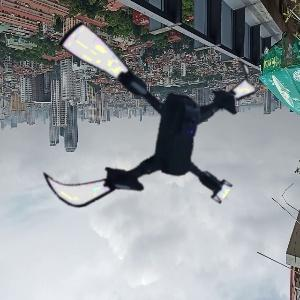drone: (28, 9, 254, 235)
